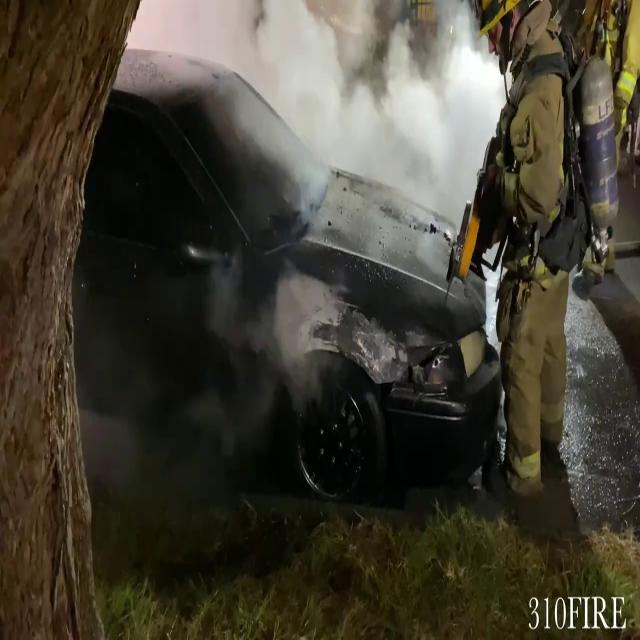Smoke: (130, 0, 502, 201)
